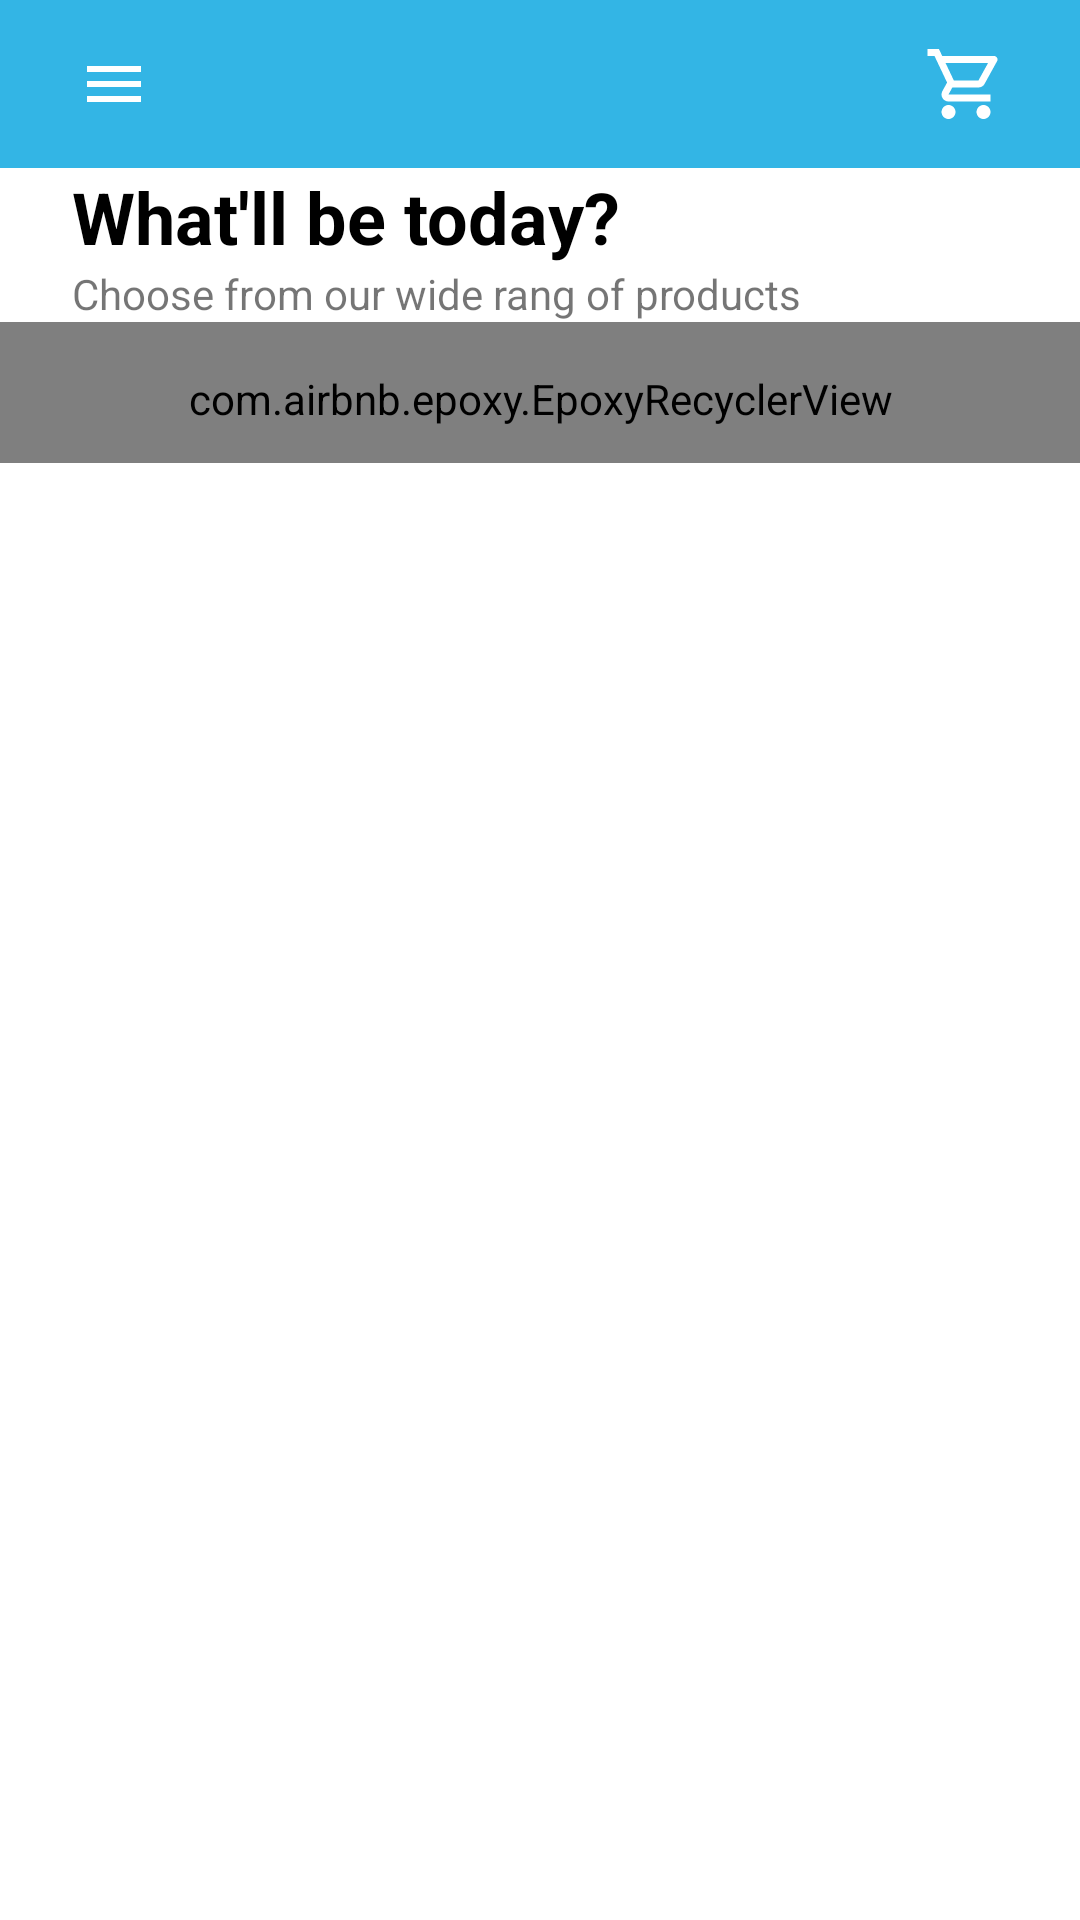

Named icons in this screenshot (1080 x 1920) and their bounding boxes, rect(x1, y1, x2, y2):
menu: rect(87, 66, 141, 102)
shopping: rect(927, 49, 998, 119)
